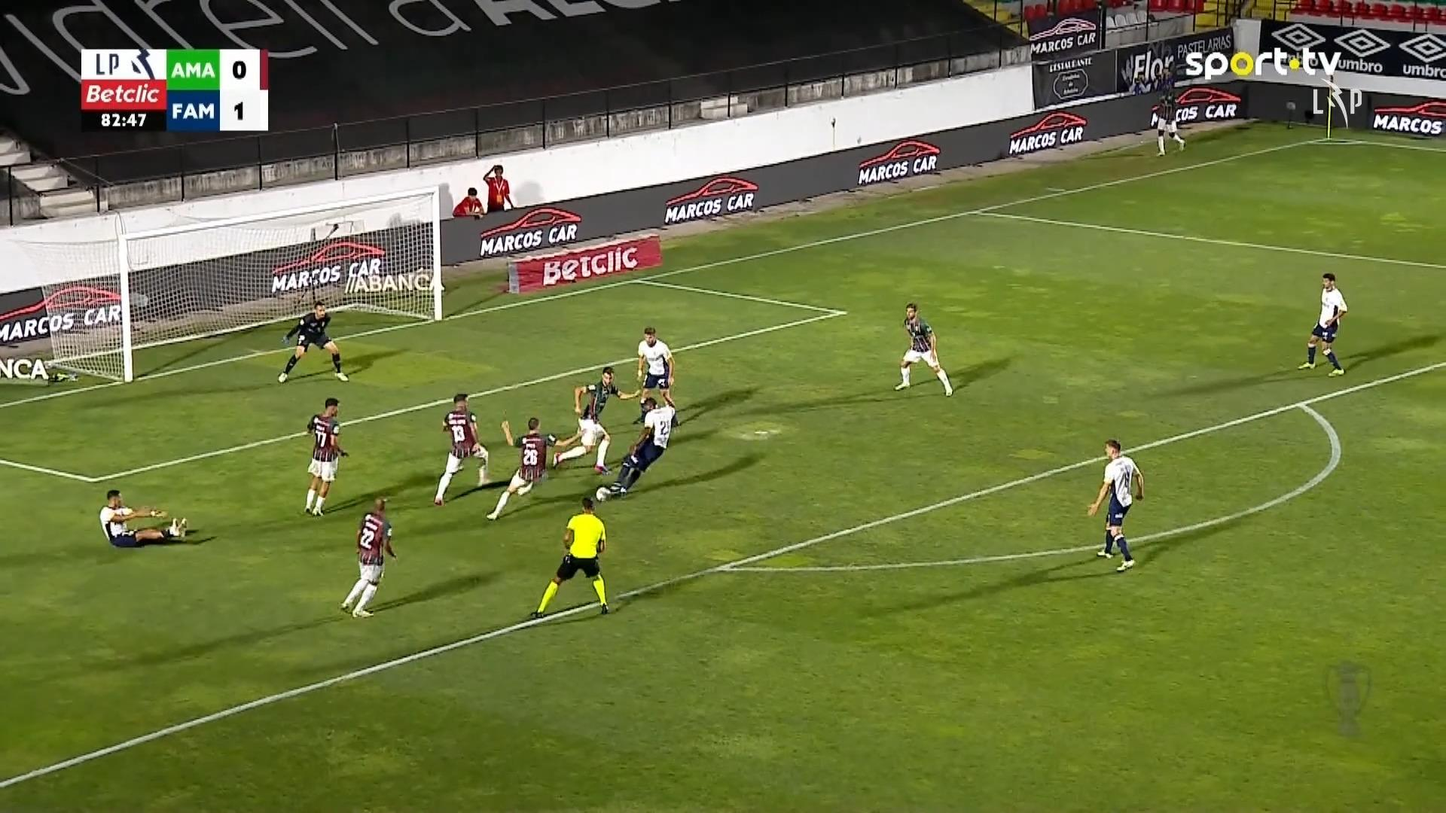ball: (595, 486, 609, 502)
goalkeeper: (276, 300, 349, 383)
player: (551, 366, 642, 475), (594, 395, 677, 501), (1086, 437, 1144, 571), (338, 496, 397, 618), (485, 415, 552, 520), (432, 392, 491, 505), (893, 301, 953, 397), (302, 397, 349, 516), (98, 489, 188, 548), (1296, 272, 1347, 376), (633, 325, 677, 425), (551, 406, 612, 475), (572, 366, 642, 425)
referee: (529, 496, 610, 619)
